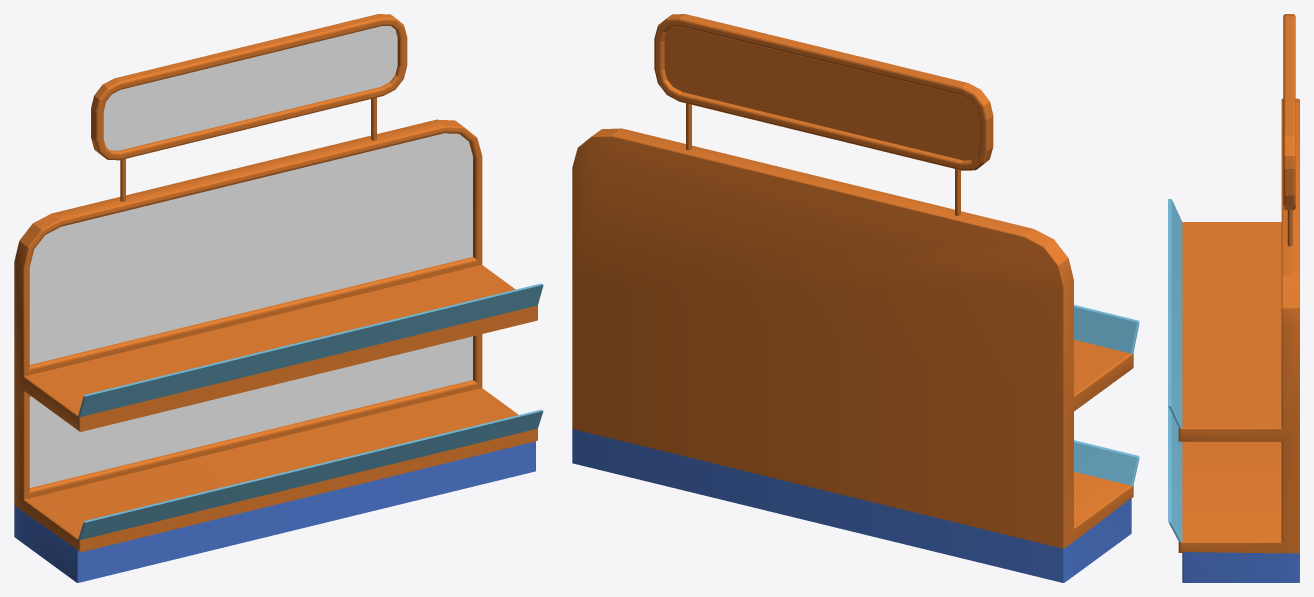
File: shelf_market.fbx
3 renders of one model, left to right at view 1: azimuth 30°, elevation 25°; view 2: azimuth 150°, elevation 25°; view 3: azimuth 270°, elevation 25°, orthographic. The views are drawn at different scales.
Parts seen in each view (by area): view 1: Cube; view 2: Cube; view 3: Cube.
Part boxes in pixels (x1=…): Cube: x1=14, y1=14, x2=543, y2=582; Cube: x1=572, y1=14, x2=1139, y2=582; Cube: x1=1168, y1=14, x2=1299, y2=582.
Bounding box in the file's own units: 400 × 364 × 108.
